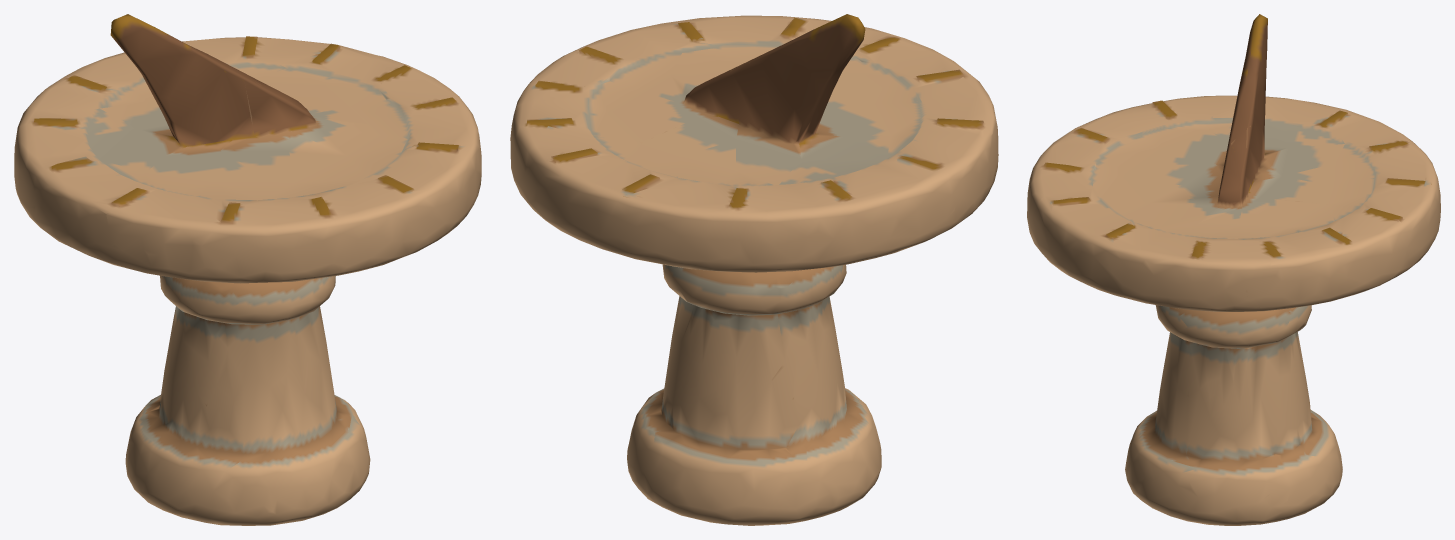
The model's file is sundial.glb.
3 views of the same model, side by side, from view 1: azimuth 30°, elevation 25°; view 2: azimuth 150°, elevation 25°; view 3: azimuth 270°, elevation 25° (orthographic). The views are drawn at different scales.
Visible parts, largest first — view 1: tripo_node_f85e1ff9-943d-400f-8353-534ffc12a5fa; view 2: tripo_node_f85e1ff9-943d-400f-8353-534ffc12a5fa; view 3: tripo_node_f85e1ff9-943d-400f-8353-534ffc12a5fa.
Boxes of the visible parts, left/top/right/bottom form: tripo_node_f85e1ff9-943d-400f-8353-534ffc12a5fa: left=14, top=14, right=481, bottom=525; tripo_node_f85e1ff9-943d-400f-8353-534ffc12a5fa: left=510, top=14, right=998, bottom=525; tripo_node_f85e1ff9-943d-400f-8353-534ffc12a5fa: left=1027, top=14, right=1440, bottom=525.
Size of the model in its own units: 0.8855 by 1 by 0.8867.
Materials: 1 (1 with a texture image).
